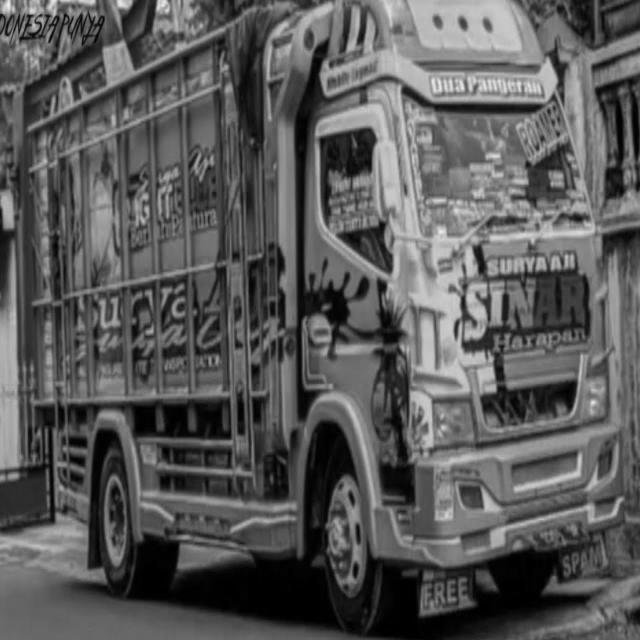truck: (258, 1, 640, 600)
